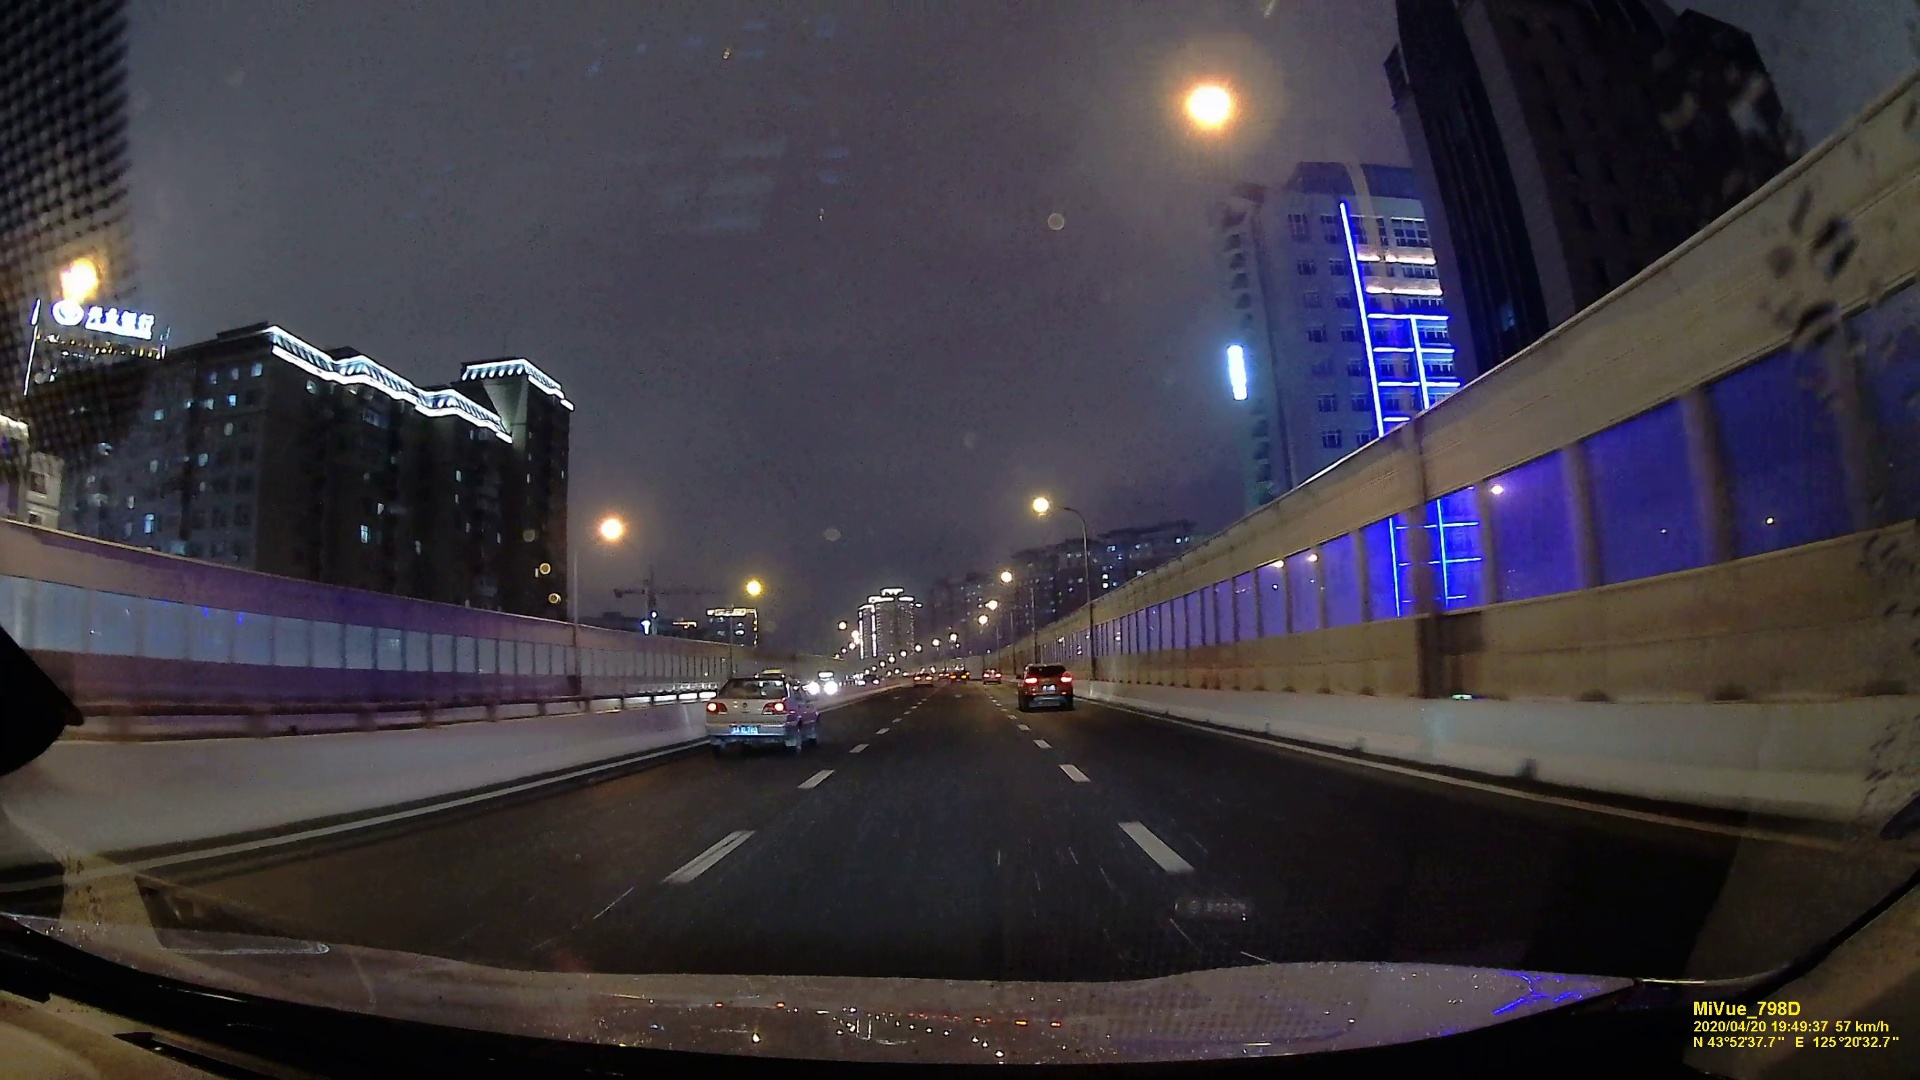vehicle: (702, 673, 823, 752), (1015, 662, 1076, 709), (913, 669, 935, 684)
